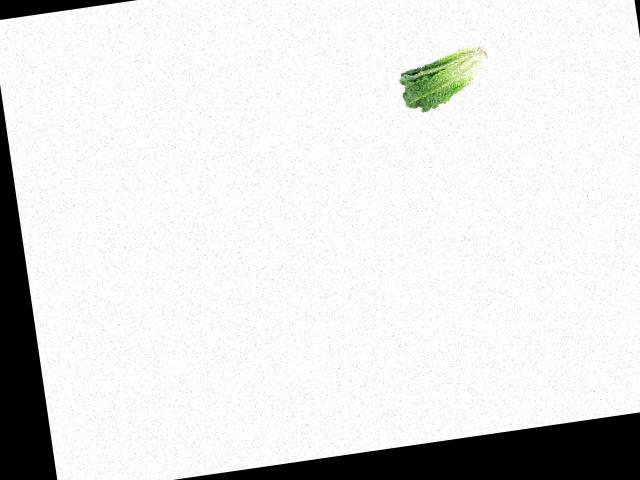lettuce: (393, 41, 499, 113)
